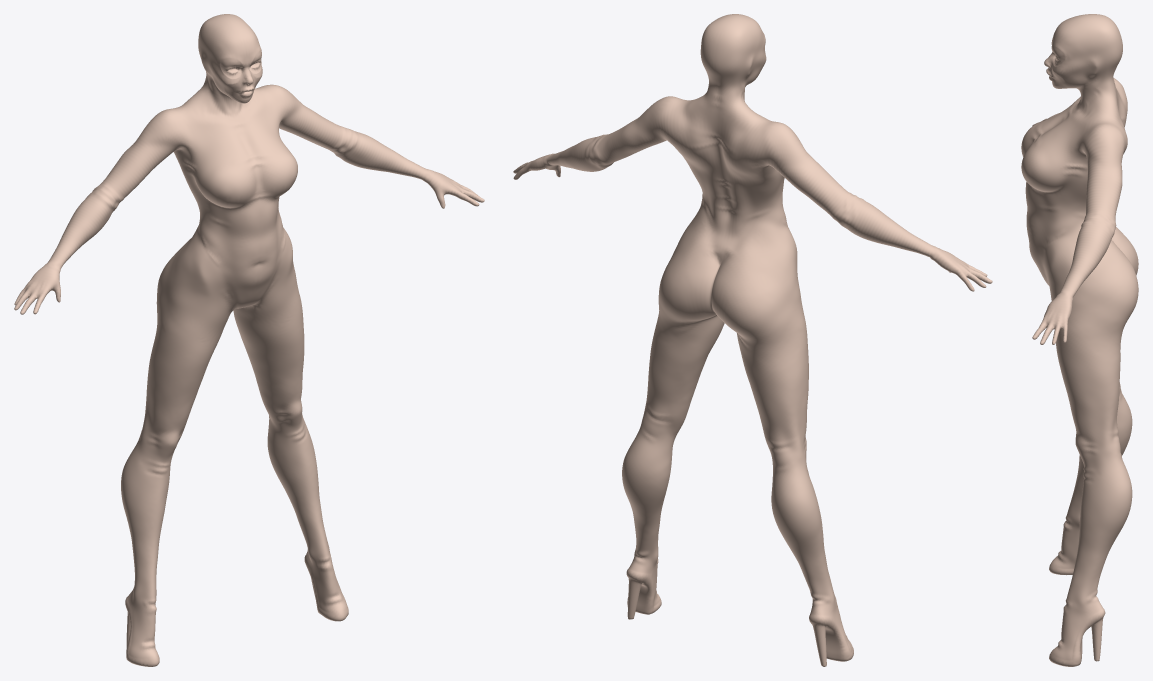
The model's file is female.glb.
3 views of the same model, side by side, from view 1: azimuth 30°, elevation 25°; view 2: azimuth 150°, elevation 25°; view 3: azimuth 270°, elevation 25° (orthographic). The views are drawn at different scales.
Parts seen in each view (by area): view 1: body; view 2: body; view 3: body.
Part boxes in pixels (x1=…): body: x1=14, y1=14, x2=484, y2=666; body: x1=513, y1=14, x2=992, y2=666; body: x1=1021, y1=14, x2=1138, y2=666.
Size of the model in its own units: 1.35 by 1.7 by 0.3012.
